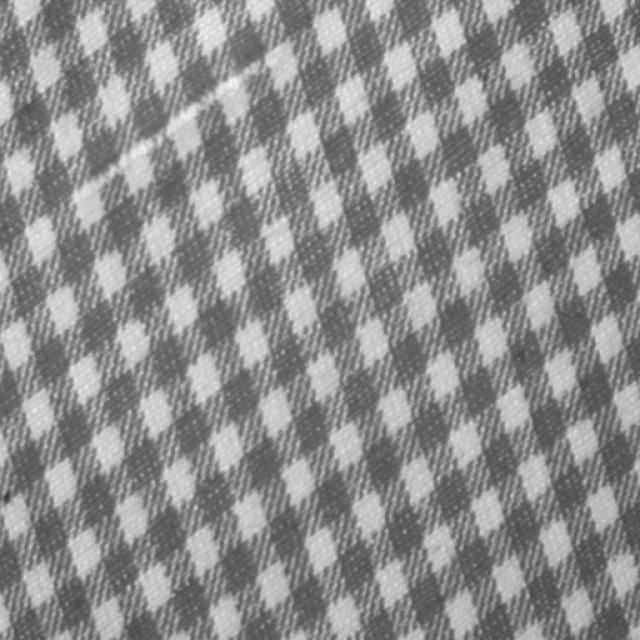Thread-Defect: (73, 46, 292, 199)
